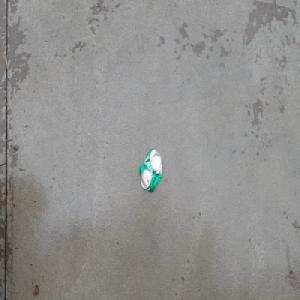SodaCan: (138, 147, 163, 194)
